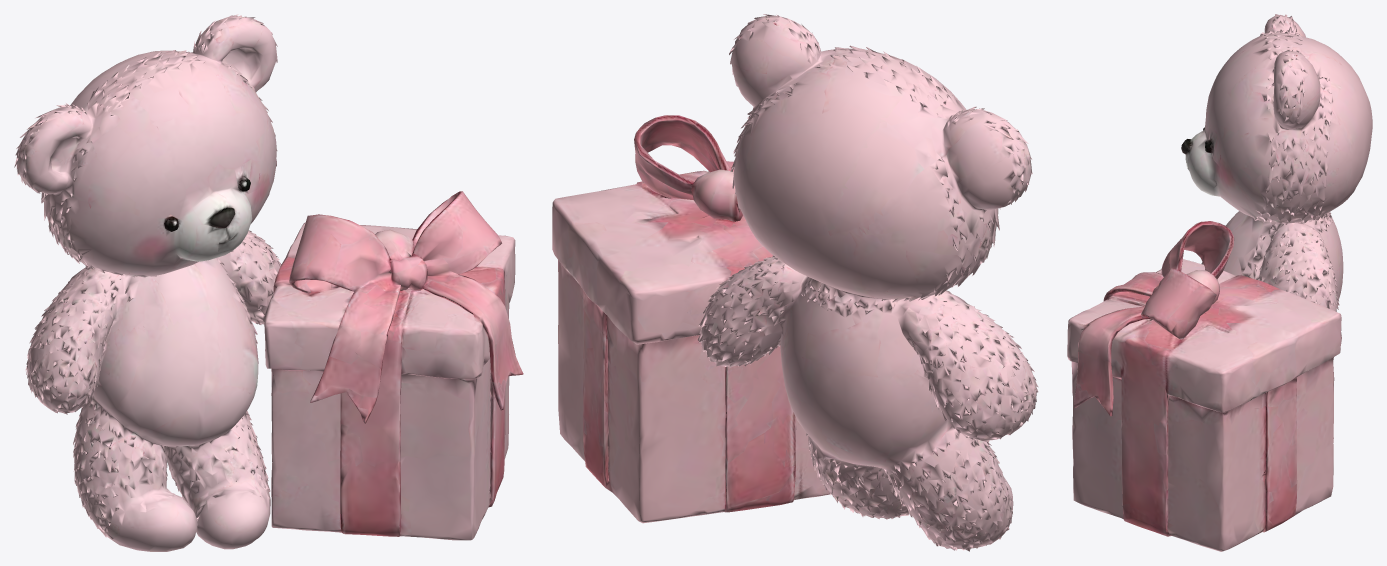
3 renders of one model, left to right at view 1: azimuth 30°, elevation 25°; view 2: azimuth 150°, elevation 25°; view 3: azimuth 270°, elevation 25°, orthographic. The views are drawn at different scales.
Bounding box in the file's own units: 1.9 × 1.83 × 1.25.
Materials: 1 (1 with a texture image).
